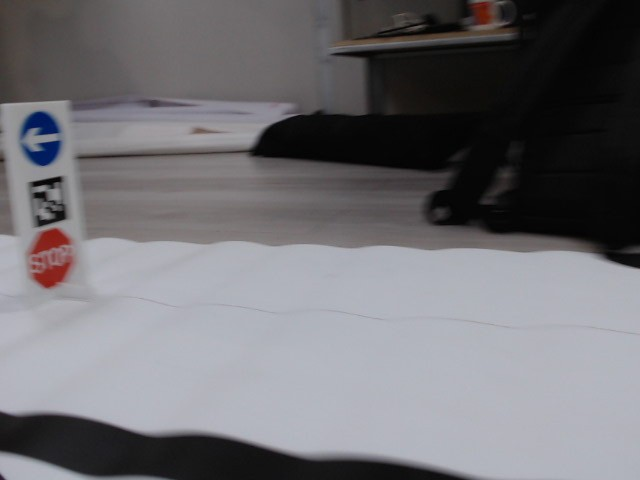Stop: (25, 227, 76, 289)
